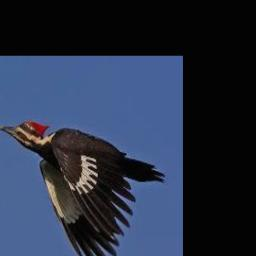Woodpecker: (0, 120, 166, 256)
